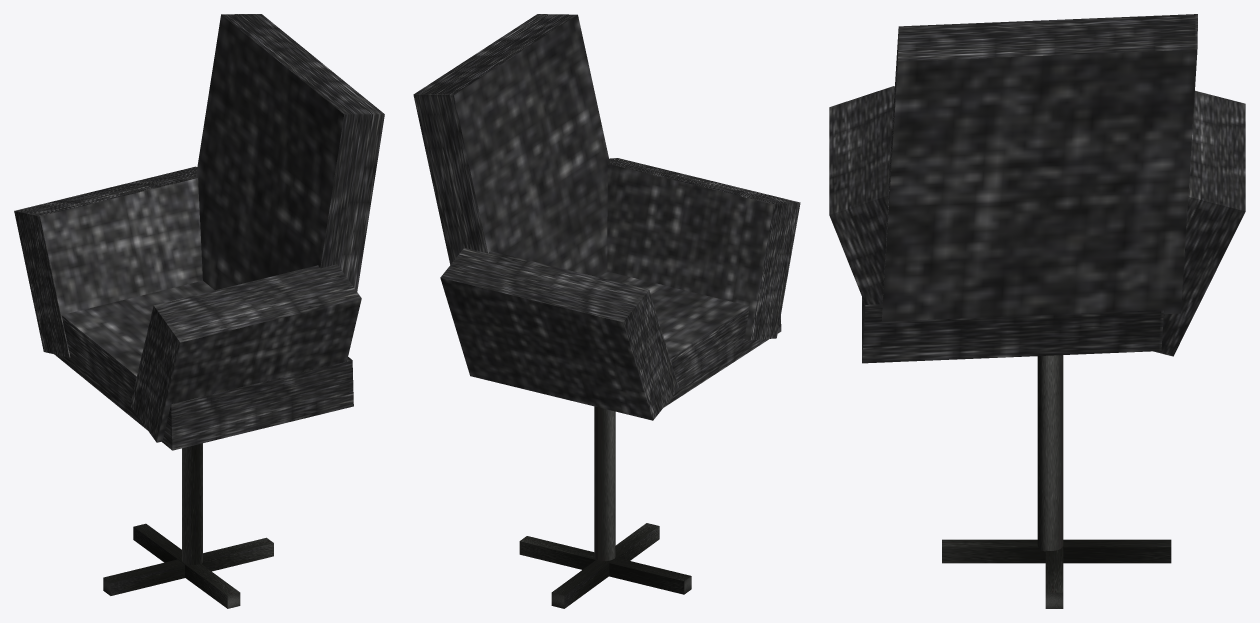
File: comfortableChair.obj
3 views of the same model, side by side, from view 1: azimuth 30°, elevation 25°; view 2: azimuth 150°, elevation 25°; view 3: azimuth 270°, elevation 25° (orthographic). The views are drawn at different scales.
Visible parts, largest first — view 1: Cube.013_greyish, Cube.013_Material.001; view 2: Cube.013_greyish, Cube.013_Material.001; view 3: Cube.013_greyish, Cube.013_Material.001.
Boxes of the visible parts, left/top/right/bottom form: Cube.013_greyish: left=14, top=14, right=384, bottom=450; Cube.013_Material.001: left=103, top=443, right=273, bottom=608; Cube.013_greyish: left=413, top=14, right=800, bottom=420; Cube.013_Material.001: left=519, top=406, right=691, bottom=608; Cube.013_greyish: left=829, top=14, right=1245, bottom=363; Cube.013_Material.001: left=942, top=355, right=1171, bottom=608.
Bounding box in the file's own units: 1.28 × 2.6 × 1.63.
